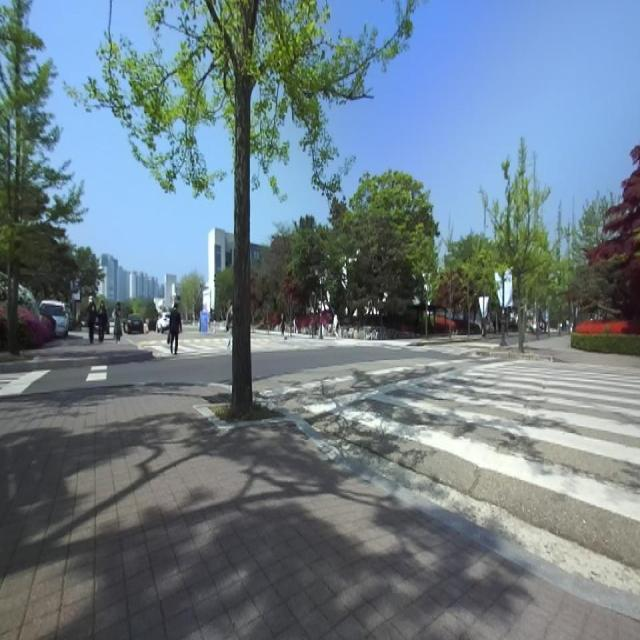sidewalk: (0, 386, 640, 639), (524, 335, 640, 368), (20, 339, 147, 359), (323, 337, 410, 345)
